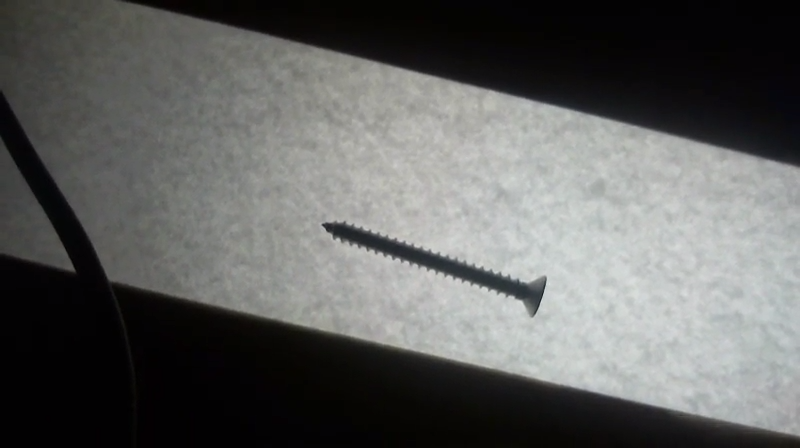S002: (317, 218, 550, 319)
